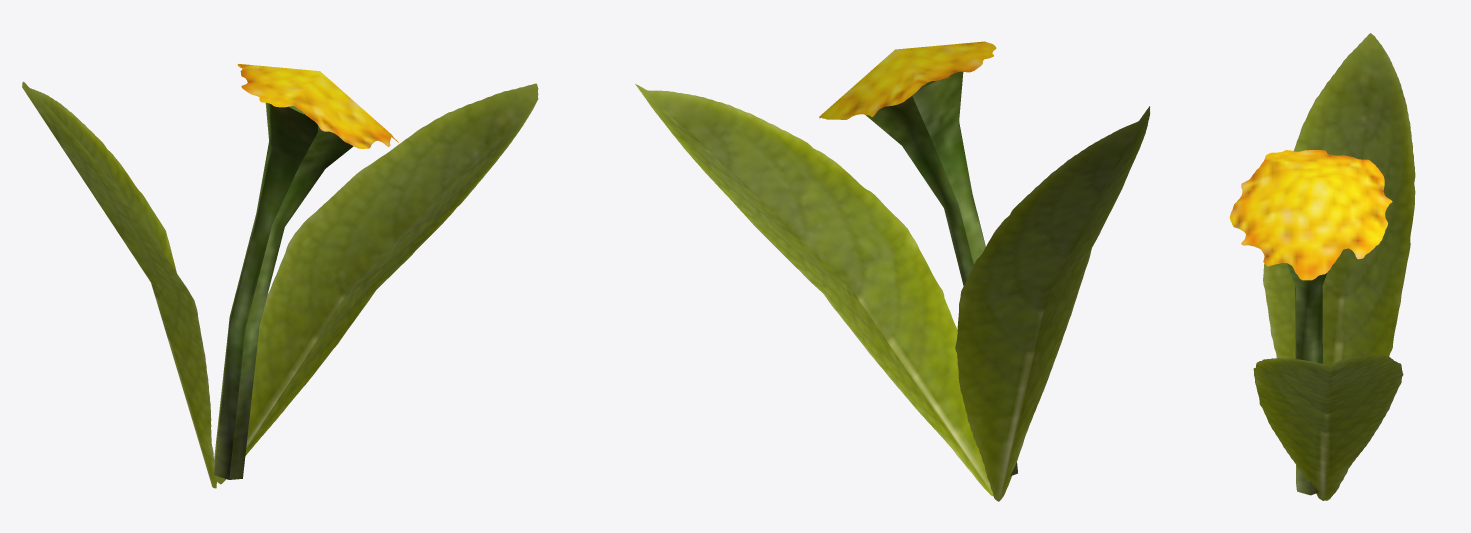
The model's file is yellowf2.fbx.
3 renders of one model, left to right at view 1: azimuth 30°, elevation 25°; view 2: azimuth 150°, elevation 25°; view 3: azimuth 270°, elevation 25°, orthographic. The views are drawn at different scales.
Visible parts, largest first — view 1: yellowflower02; view 2: yellowflower02; view 3: yellowflower02.
Part boxes in pixels (bbox=[...]): yellowflower02: bbox=[22, 64, 538, 488]; yellowflower02: bbox=[635, 41, 1150, 501]; yellowflower02: bbox=[1230, 33, 1415, 500].
Size of the model in its own units: 19.28 by 16.69 by 8.26.
